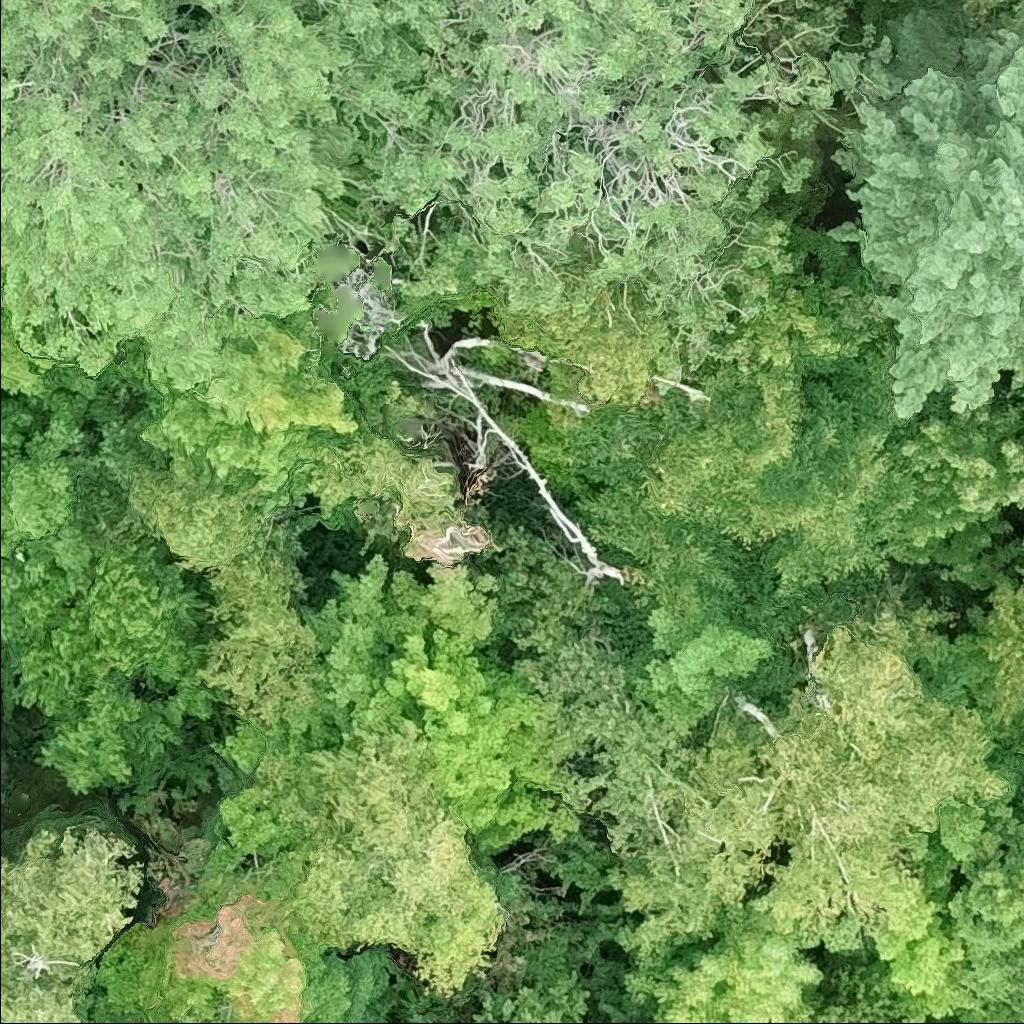crown: (0, 0, 461, 399), (382, 0, 858, 381), (209, 548, 600, 853), (564, 348, 920, 628), (825, 2, 1023, 426), (94, 781, 419, 1023), (244, 715, 506, 1007), (692, 687, 908, 934), (810, 591, 1011, 835), (137, 321, 361, 507), (592, 748, 765, 970), (0, 825, 146, 1023), (884, 404, 1023, 595), (622, 894, 827, 1023), (626, 603, 776, 738), (920, 564, 1023, 755), (859, 870, 983, 1023), (0, 0, 231, 77), (0, 388, 99, 560), (397, 966, 597, 1023), (817, 963, 904, 1023), (944, 0, 1023, 18), (1015, 770, 1023, 797), (1019, 527, 1023, 564), (186, 1020, 196, 1023)
